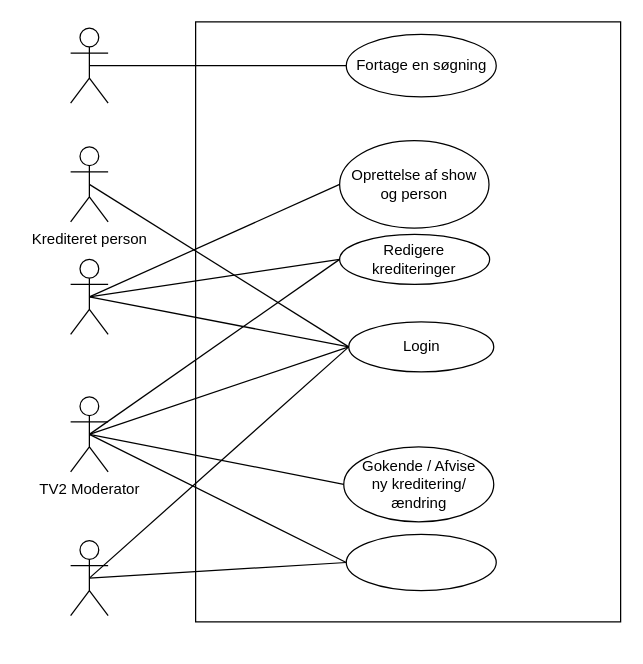
Some shapes in this 643 by 664 pixel diagram are drawn without their labels. The shapes that lost their labels are listed below. From the top down, each one's box as (x1, y1, x2, y2) in pixels, then its label:
(69, 27, 108, 103): Bruger
(69, 258, 108, 334): Producent
(69, 539, 108, 616): Systemadministrator
(345, 533, 496, 591): Fjerne et indlæg
